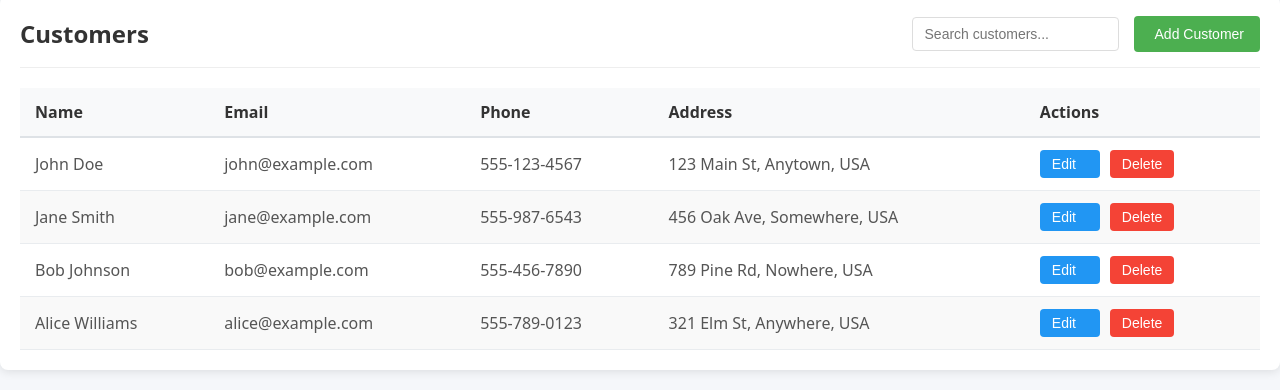
Scenario: CustomerList Component › filters customers when searching
// Type in the search field
Type "Jane" into the field with placeholder "Search customers...".
click(1015, 34); type("Jane")  # box [912,17,1118,51]
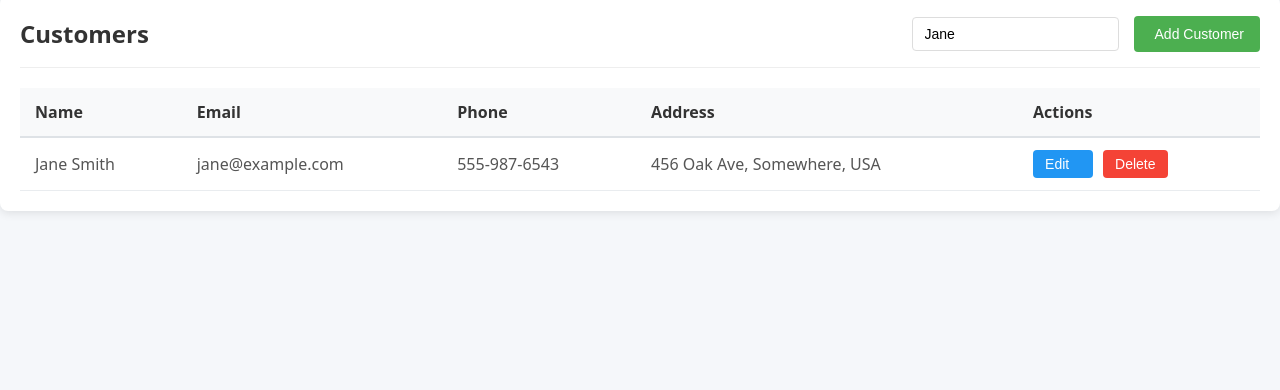
Expected: the text "Jane Smith" is shown, [20,137,182,190]
Expected: the text "John Doe" is gone
